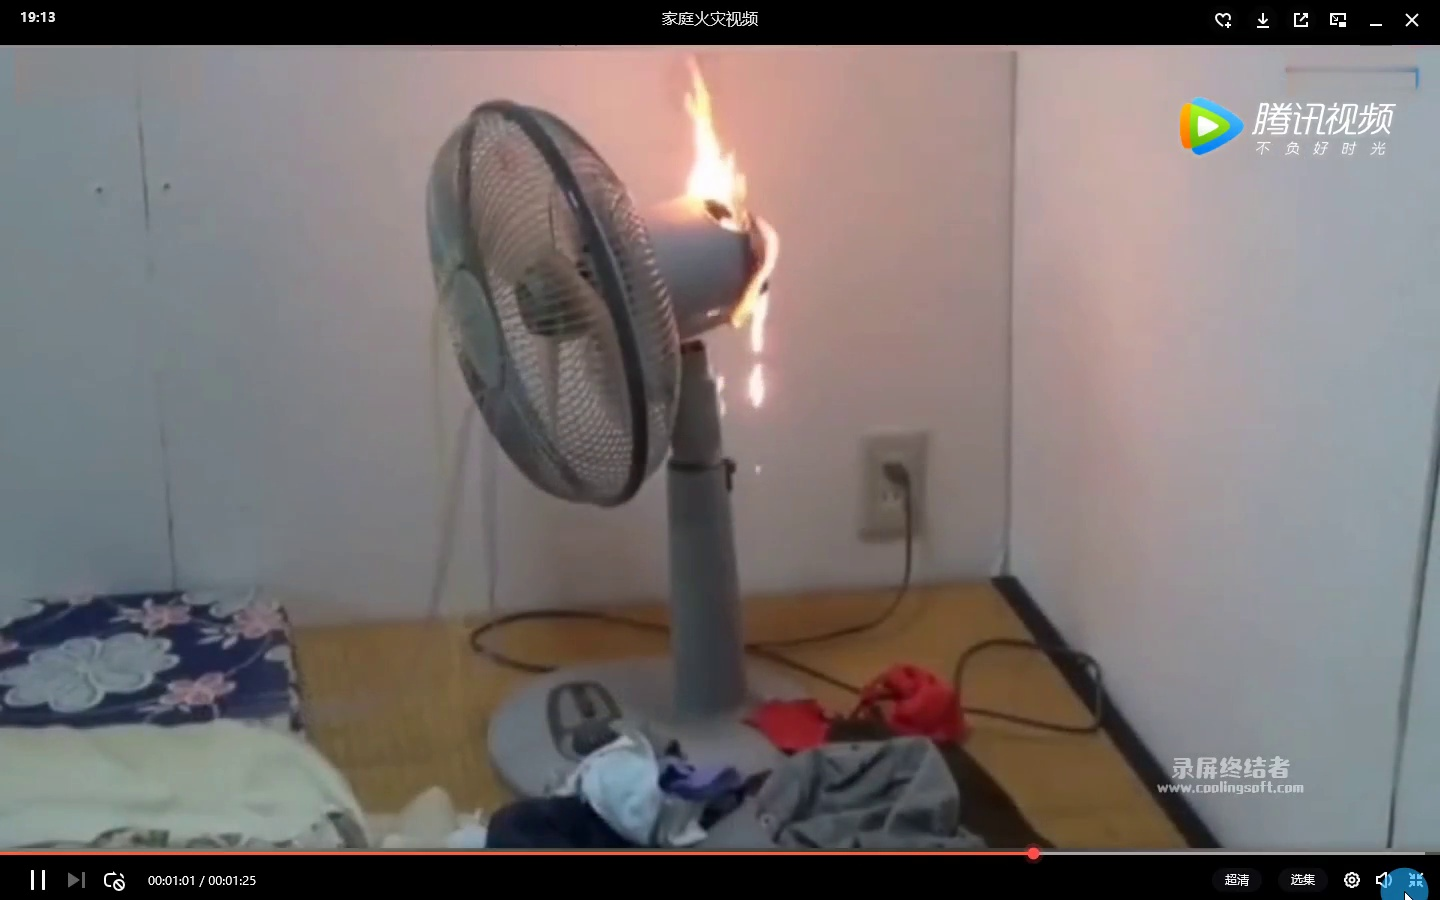fire: (674, 57, 750, 221), (731, 248, 777, 403)
